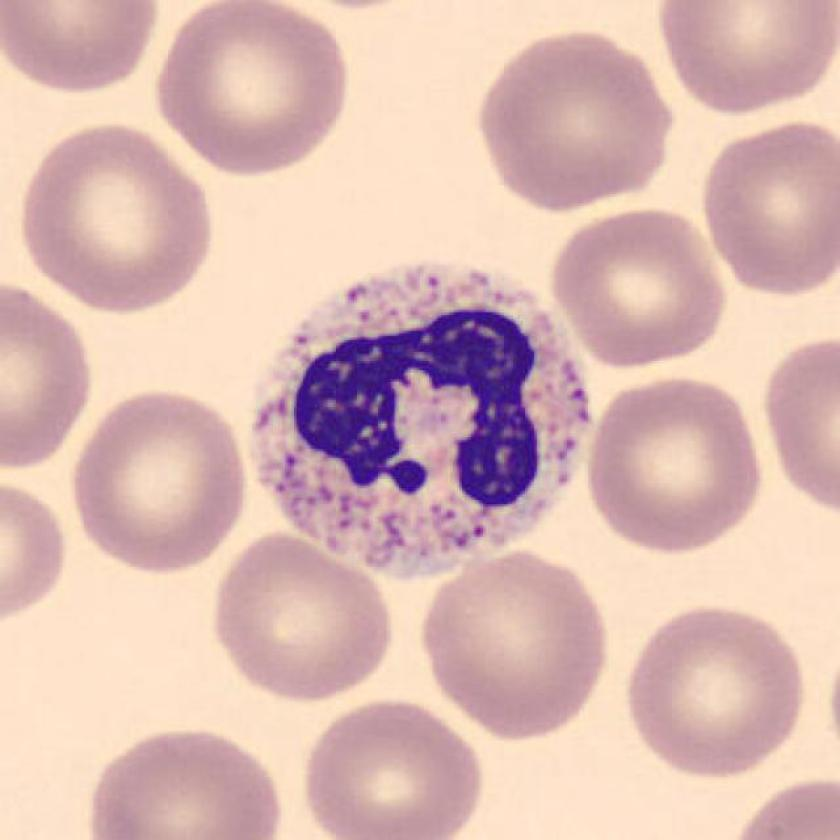neutrophil: (252, 263, 597, 583)
